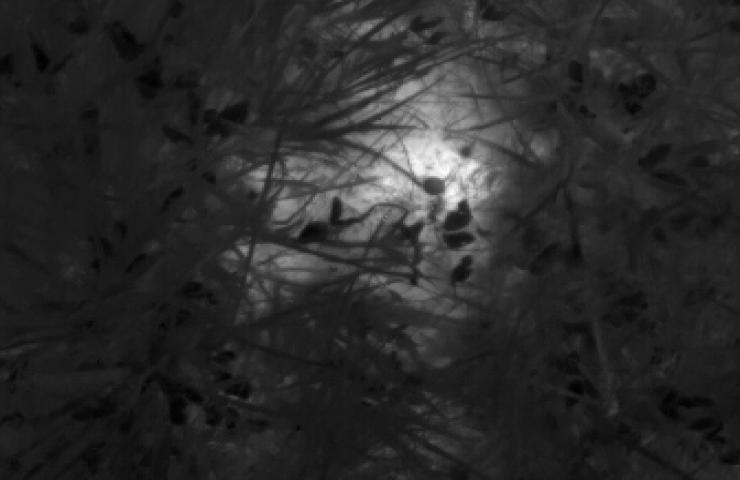landmines: (234, 6, 560, 338)
